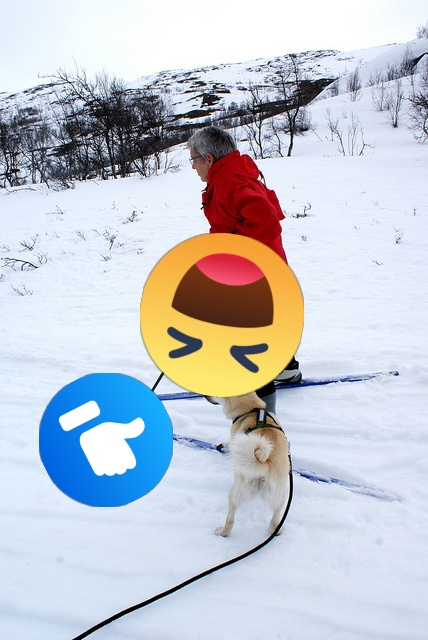haha: (140, 233, 304, 397)
like: (39, 373, 173, 507)
